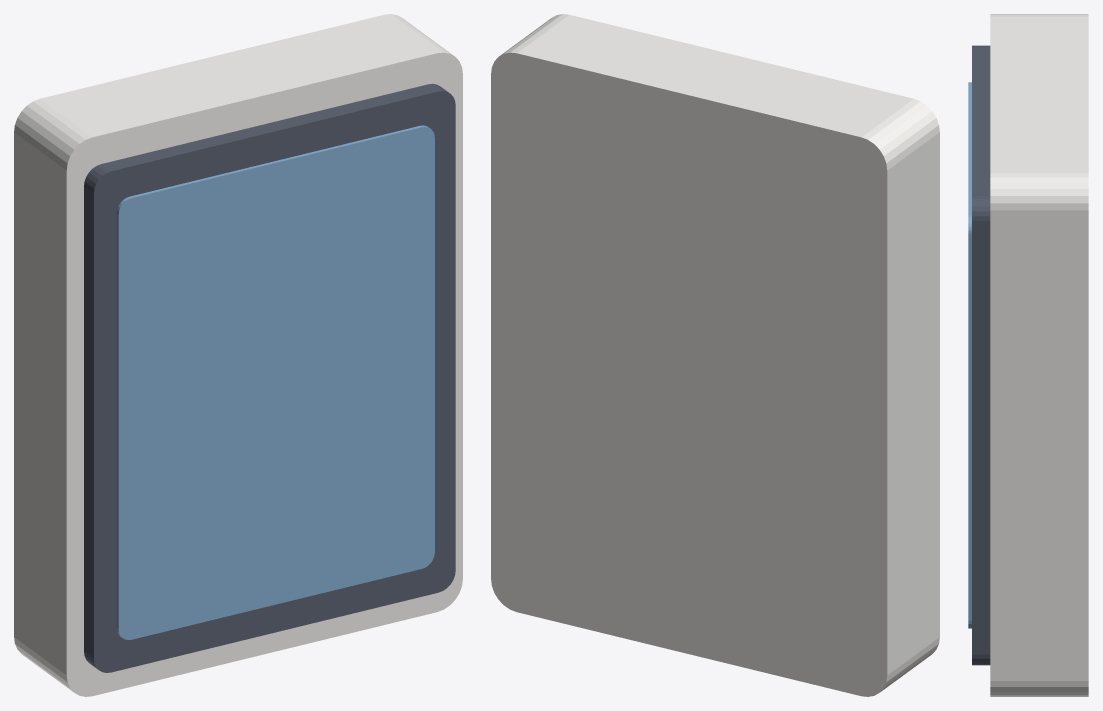
Rendered from device.canary-display-amoled241.glb.
3 views of the same model, side by side, from view 1: azimuth 30°, elevation 25°; view 2: azimuth 150°, elevation 25°; view 3: azimuth 270°, elevation 25° (orthographic). The views are drawn at different scales.
Size of the model in its own units: 0.046 by 0.062 by 0.013.
